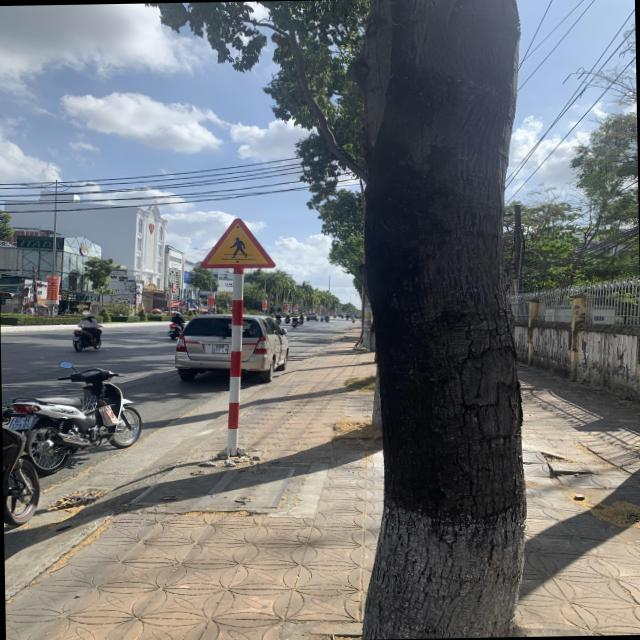Duong_Nguoi_Di_Bo_Sang_Ngang: (198, 216, 275, 268)
